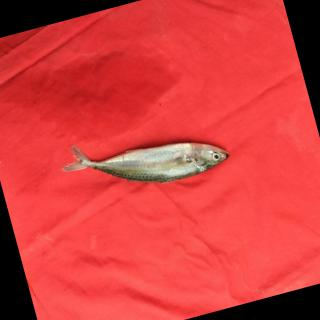Ikan: (44, 91, 248, 230)
